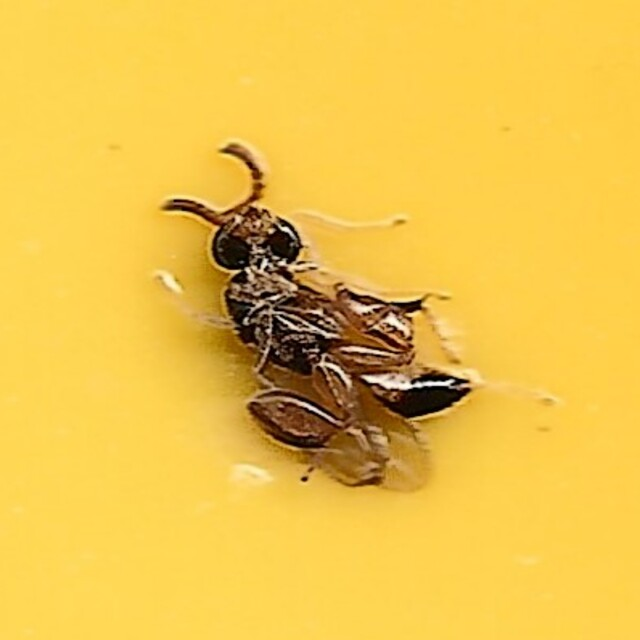Hymenoptera: (161, 143, 479, 497)
